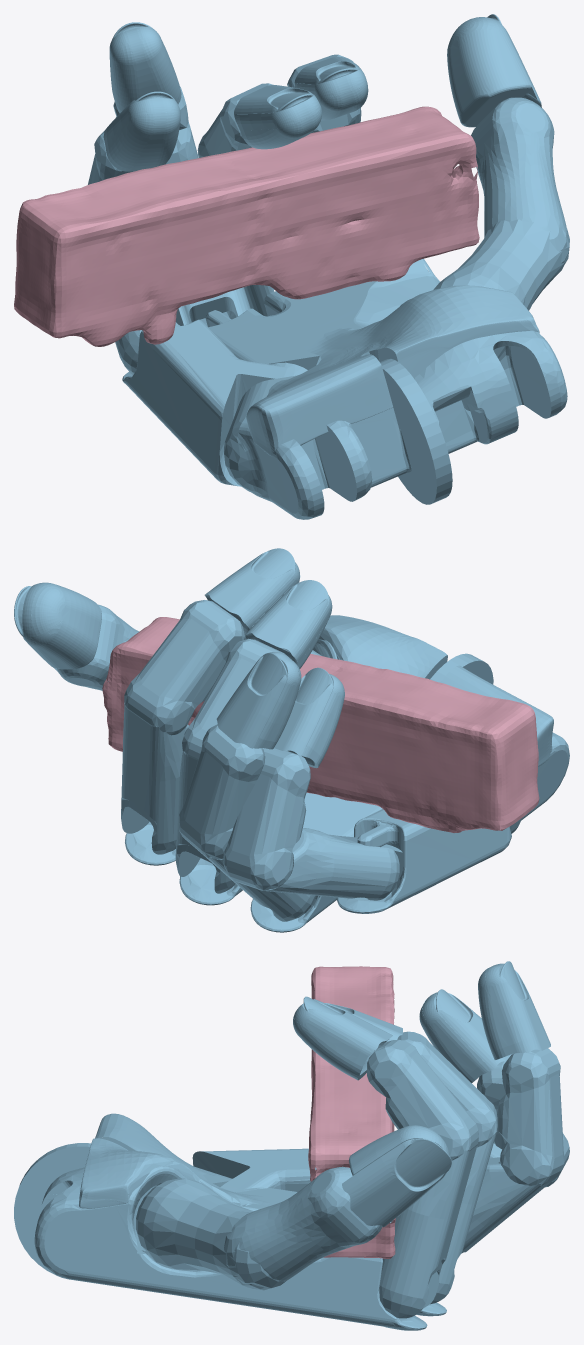
3 views of the same model, one above another, from view 1: azimuth 30°, elevation 25°; view 2: azimuth 150°, elevation 25°; view 3: azimuth 270°, elevation 25° (orthographic). The views are drawn at different scales.
Visible parts, largest first — view 1: hand, world; view 2: hand, world; view 3: hand, world.
Part boxes in pixels (x1,y1,x2,y2): hand: (88,14,569,519); world: (14,106,479,346); hand: (14,548,569,932); world: (102,617,539,832); hand: (14,961,569,1330); world: (308,966,395,1258).
Bounding box in the file's own units: 0.153 × 0.1003 × 0.1573.
